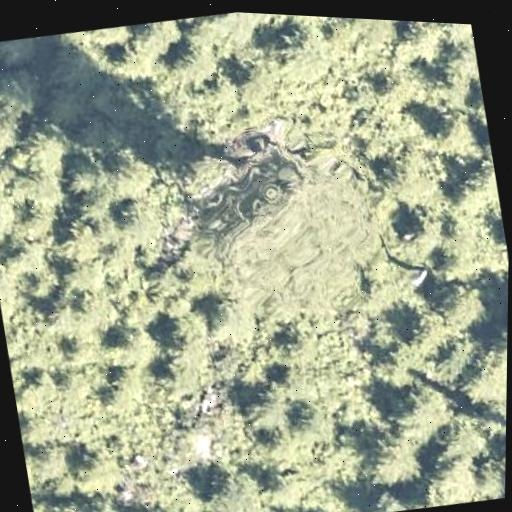tree-top: (379, 144, 456, 224), (106, 159, 166, 239), (391, 376, 459, 446), (364, 424, 428, 494), (428, 273, 489, 337), (456, 339, 507, 414), (172, 289, 232, 350), (428, 105, 489, 164), (203, 456, 267, 512), (230, 370, 295, 425), (432, 408, 489, 466), (202, 286, 257, 346), (110, 190, 165, 248), (102, 148, 157, 206), (68, 433, 122, 490), (163, 299, 214, 357), (277, 19, 331, 73), (107, 314, 160, 369), (21, 122, 73, 177), (284, 391, 336, 445), (166, 34, 217, 86), (73, 282, 122, 334), (108, 360, 156, 410), (61, 249, 107, 298), (0, 258, 35, 321), (467, 451, 506, 502), (61, 158, 103, 201), (342, 18, 403, 47), (18, 262, 60, 303), (358, 481, 413, 512), (138, 17, 185, 51), (0, 35, 37, 73), (45, 28, 94, 55), (35, 493, 96, 512), (128, 494, 189, 512), (89, 24, 131, 50), (0, 188, 22, 237), (83, 491, 134, 512), (431, 22, 473, 46), (284, 15, 335, 32), (469, 88, 488, 130), (493, 426, 506, 475)
